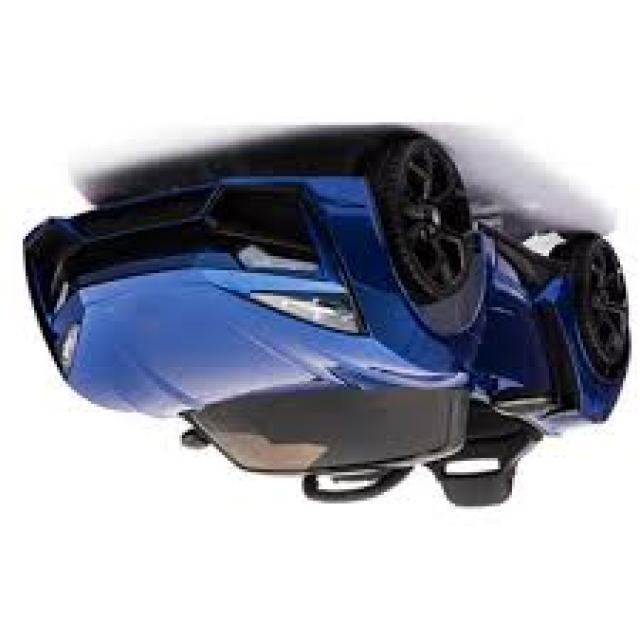Car: (20, 134, 631, 512)
